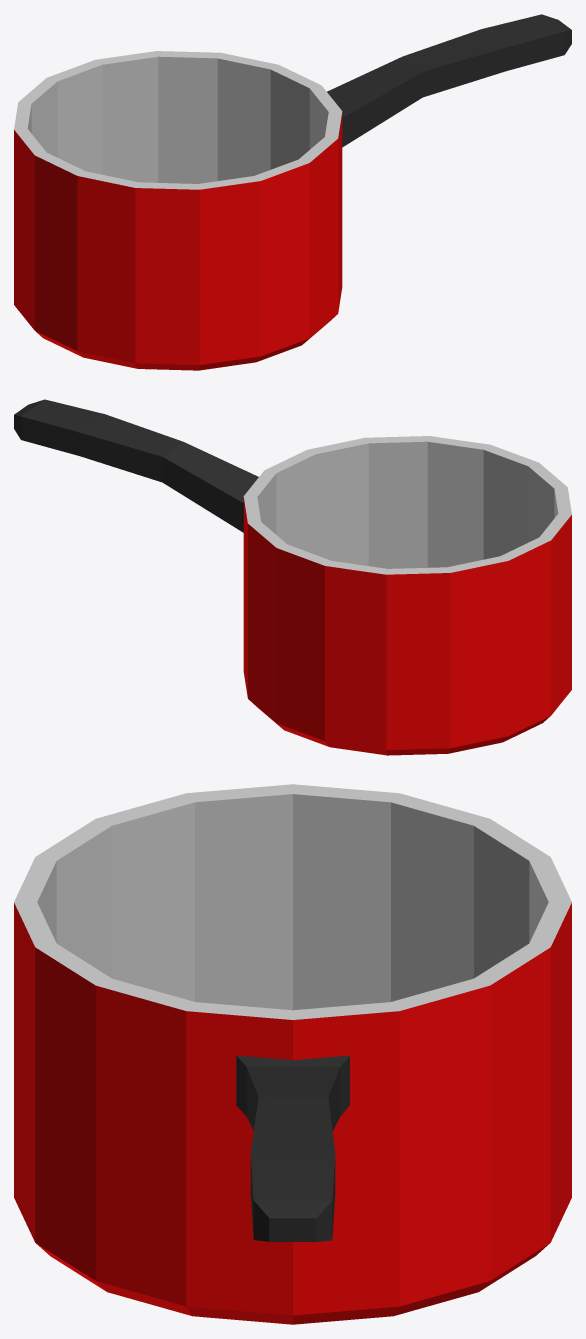
The model's file is SM_Prop_CookingPot_001.fbx.
The picture shows the model from 3 angles, top to bottom: view 1: azimuth 30°, elevation 25°; view 2: azimuth 150°, elevation 25°; view 3: azimuth 270°, elevation 25°; orthographic projection. The views are drawn at different scales.
Visible parts, largest first — view 1: Cylinder; view 2: Cylinder; view 3: Cylinder.
Boxes of the visible parts, x1,y1,x2,y2 form: Cylinder: (14, 14, 571, 370); Cylinder: (14, 399, 571, 755); Cylinder: (14, 784, 571, 1324).
Bounding box in the file's own units: 62.88 × 21.92 × 34.
